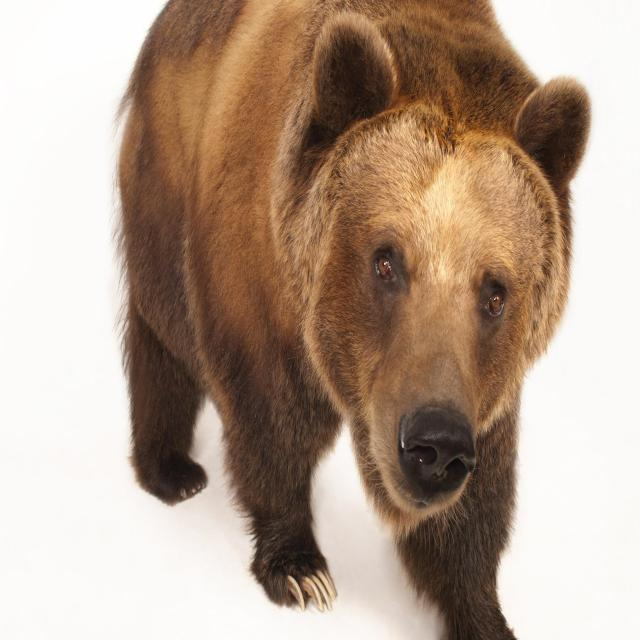Bear: (114, 0, 593, 640)
